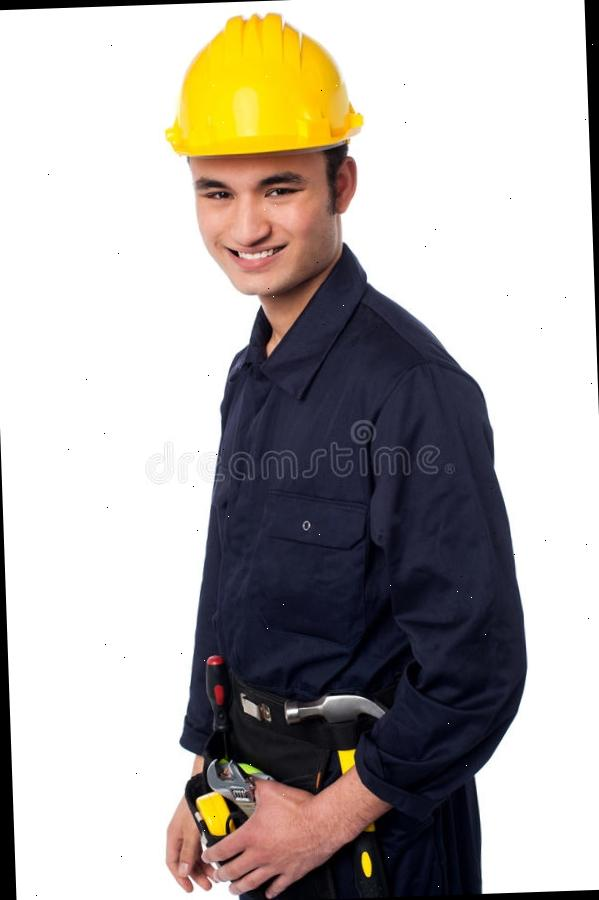helmet: (157, 7, 366, 176)
wear: (188, 298, 532, 766)
